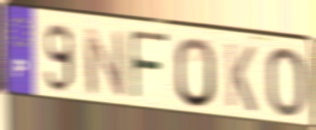9: (43, 22, 75, 95)
F: (128, 28, 171, 105)
K: (224, 40, 258, 115)
N: (81, 25, 128, 100)
O: (173, 35, 218, 111), (265, 45, 307, 120)
